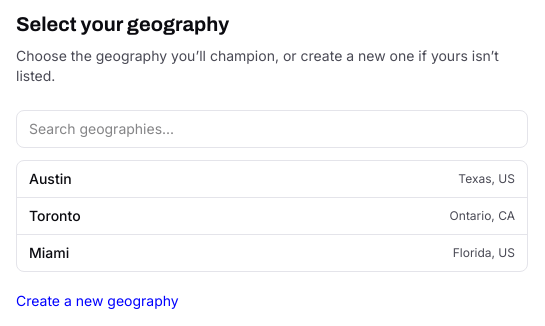
Test: GeographyPicker › shows create new prompt when search has no results
Type "Springfield" into the field with placeholder "Search geographies..." at (272, 129), box [16,110,528,148]
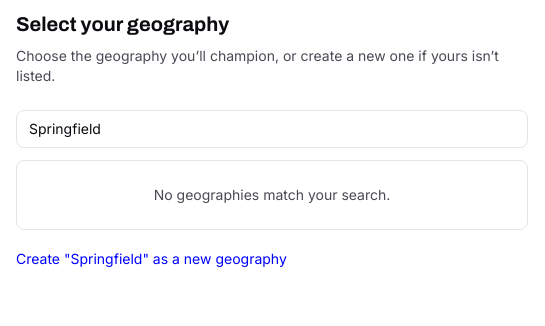
Check: the text "No geographies match your search." is shown, box [16,160,528,230]
Check: the button "Create \"Springfield\" as a new geography" is shown, box [16,249,287,269]
